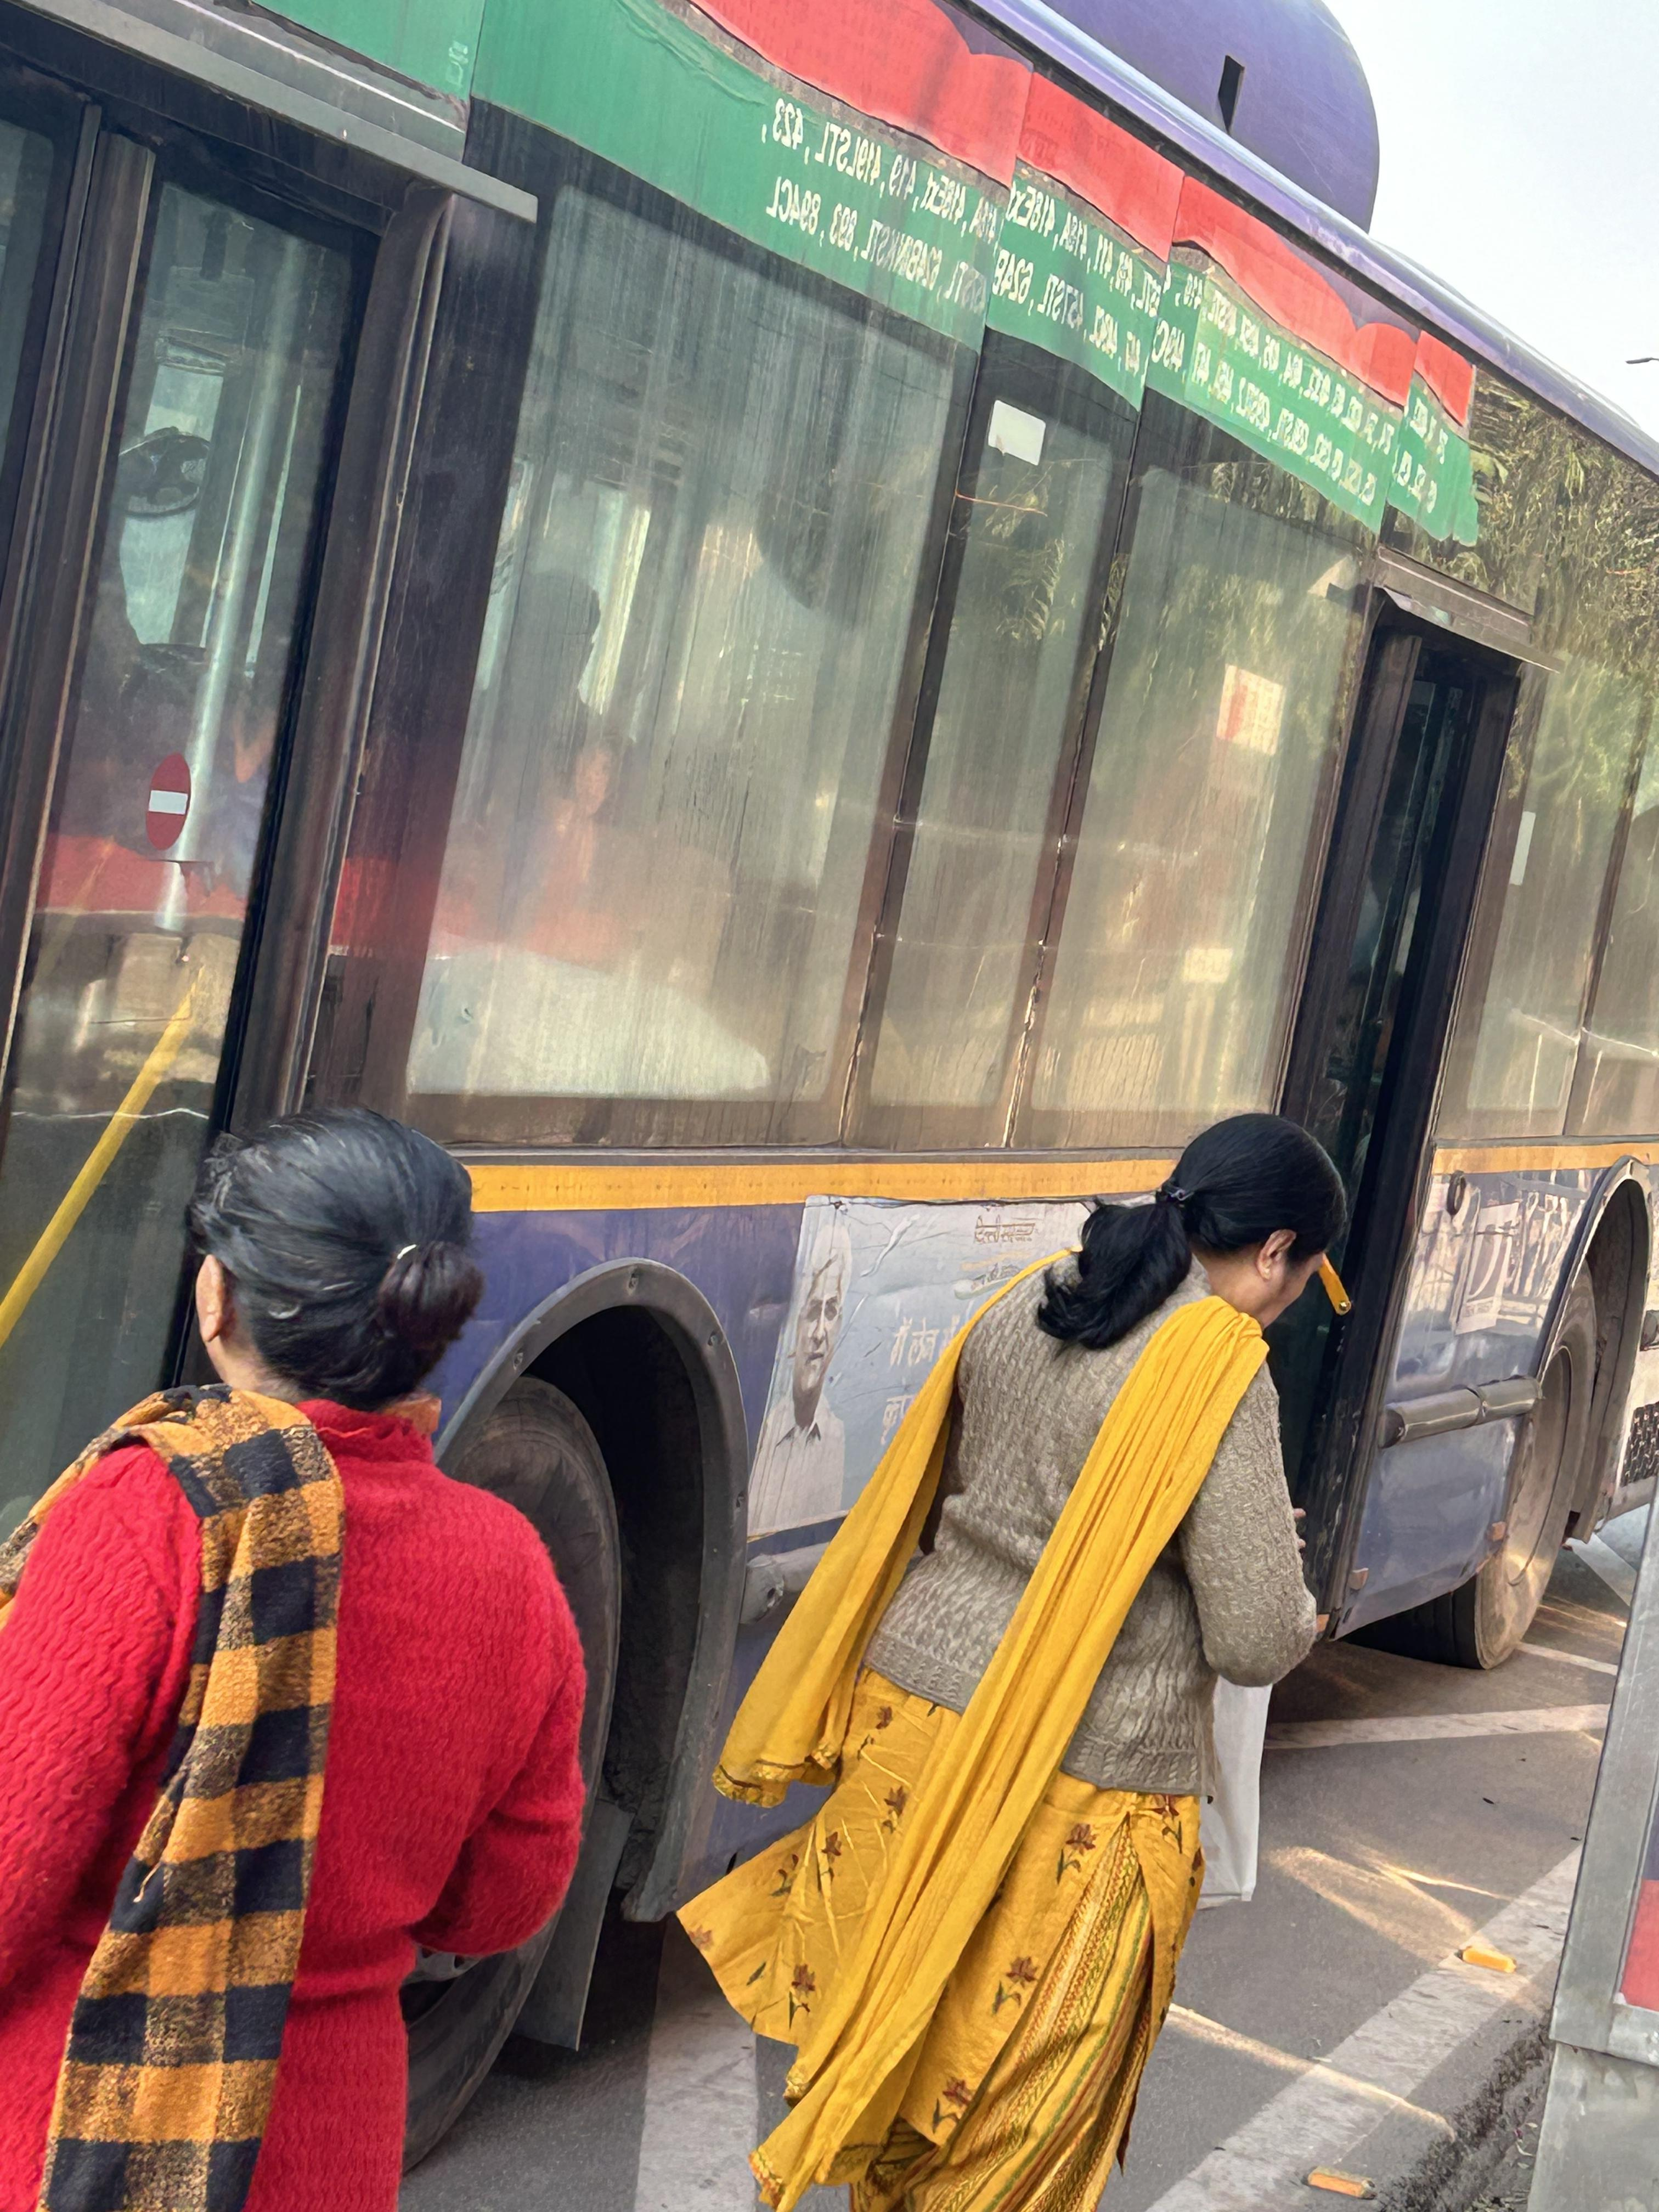Bus: (16, 0, 1659, 1958)
